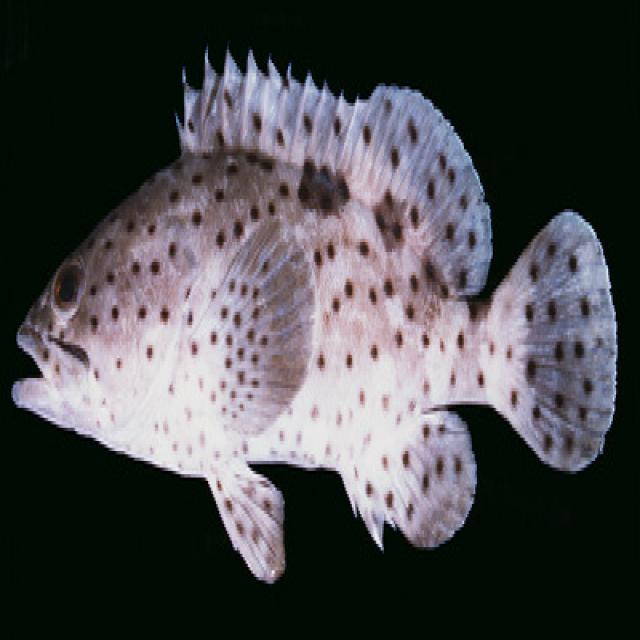ikan: (10, 39, 618, 584)
